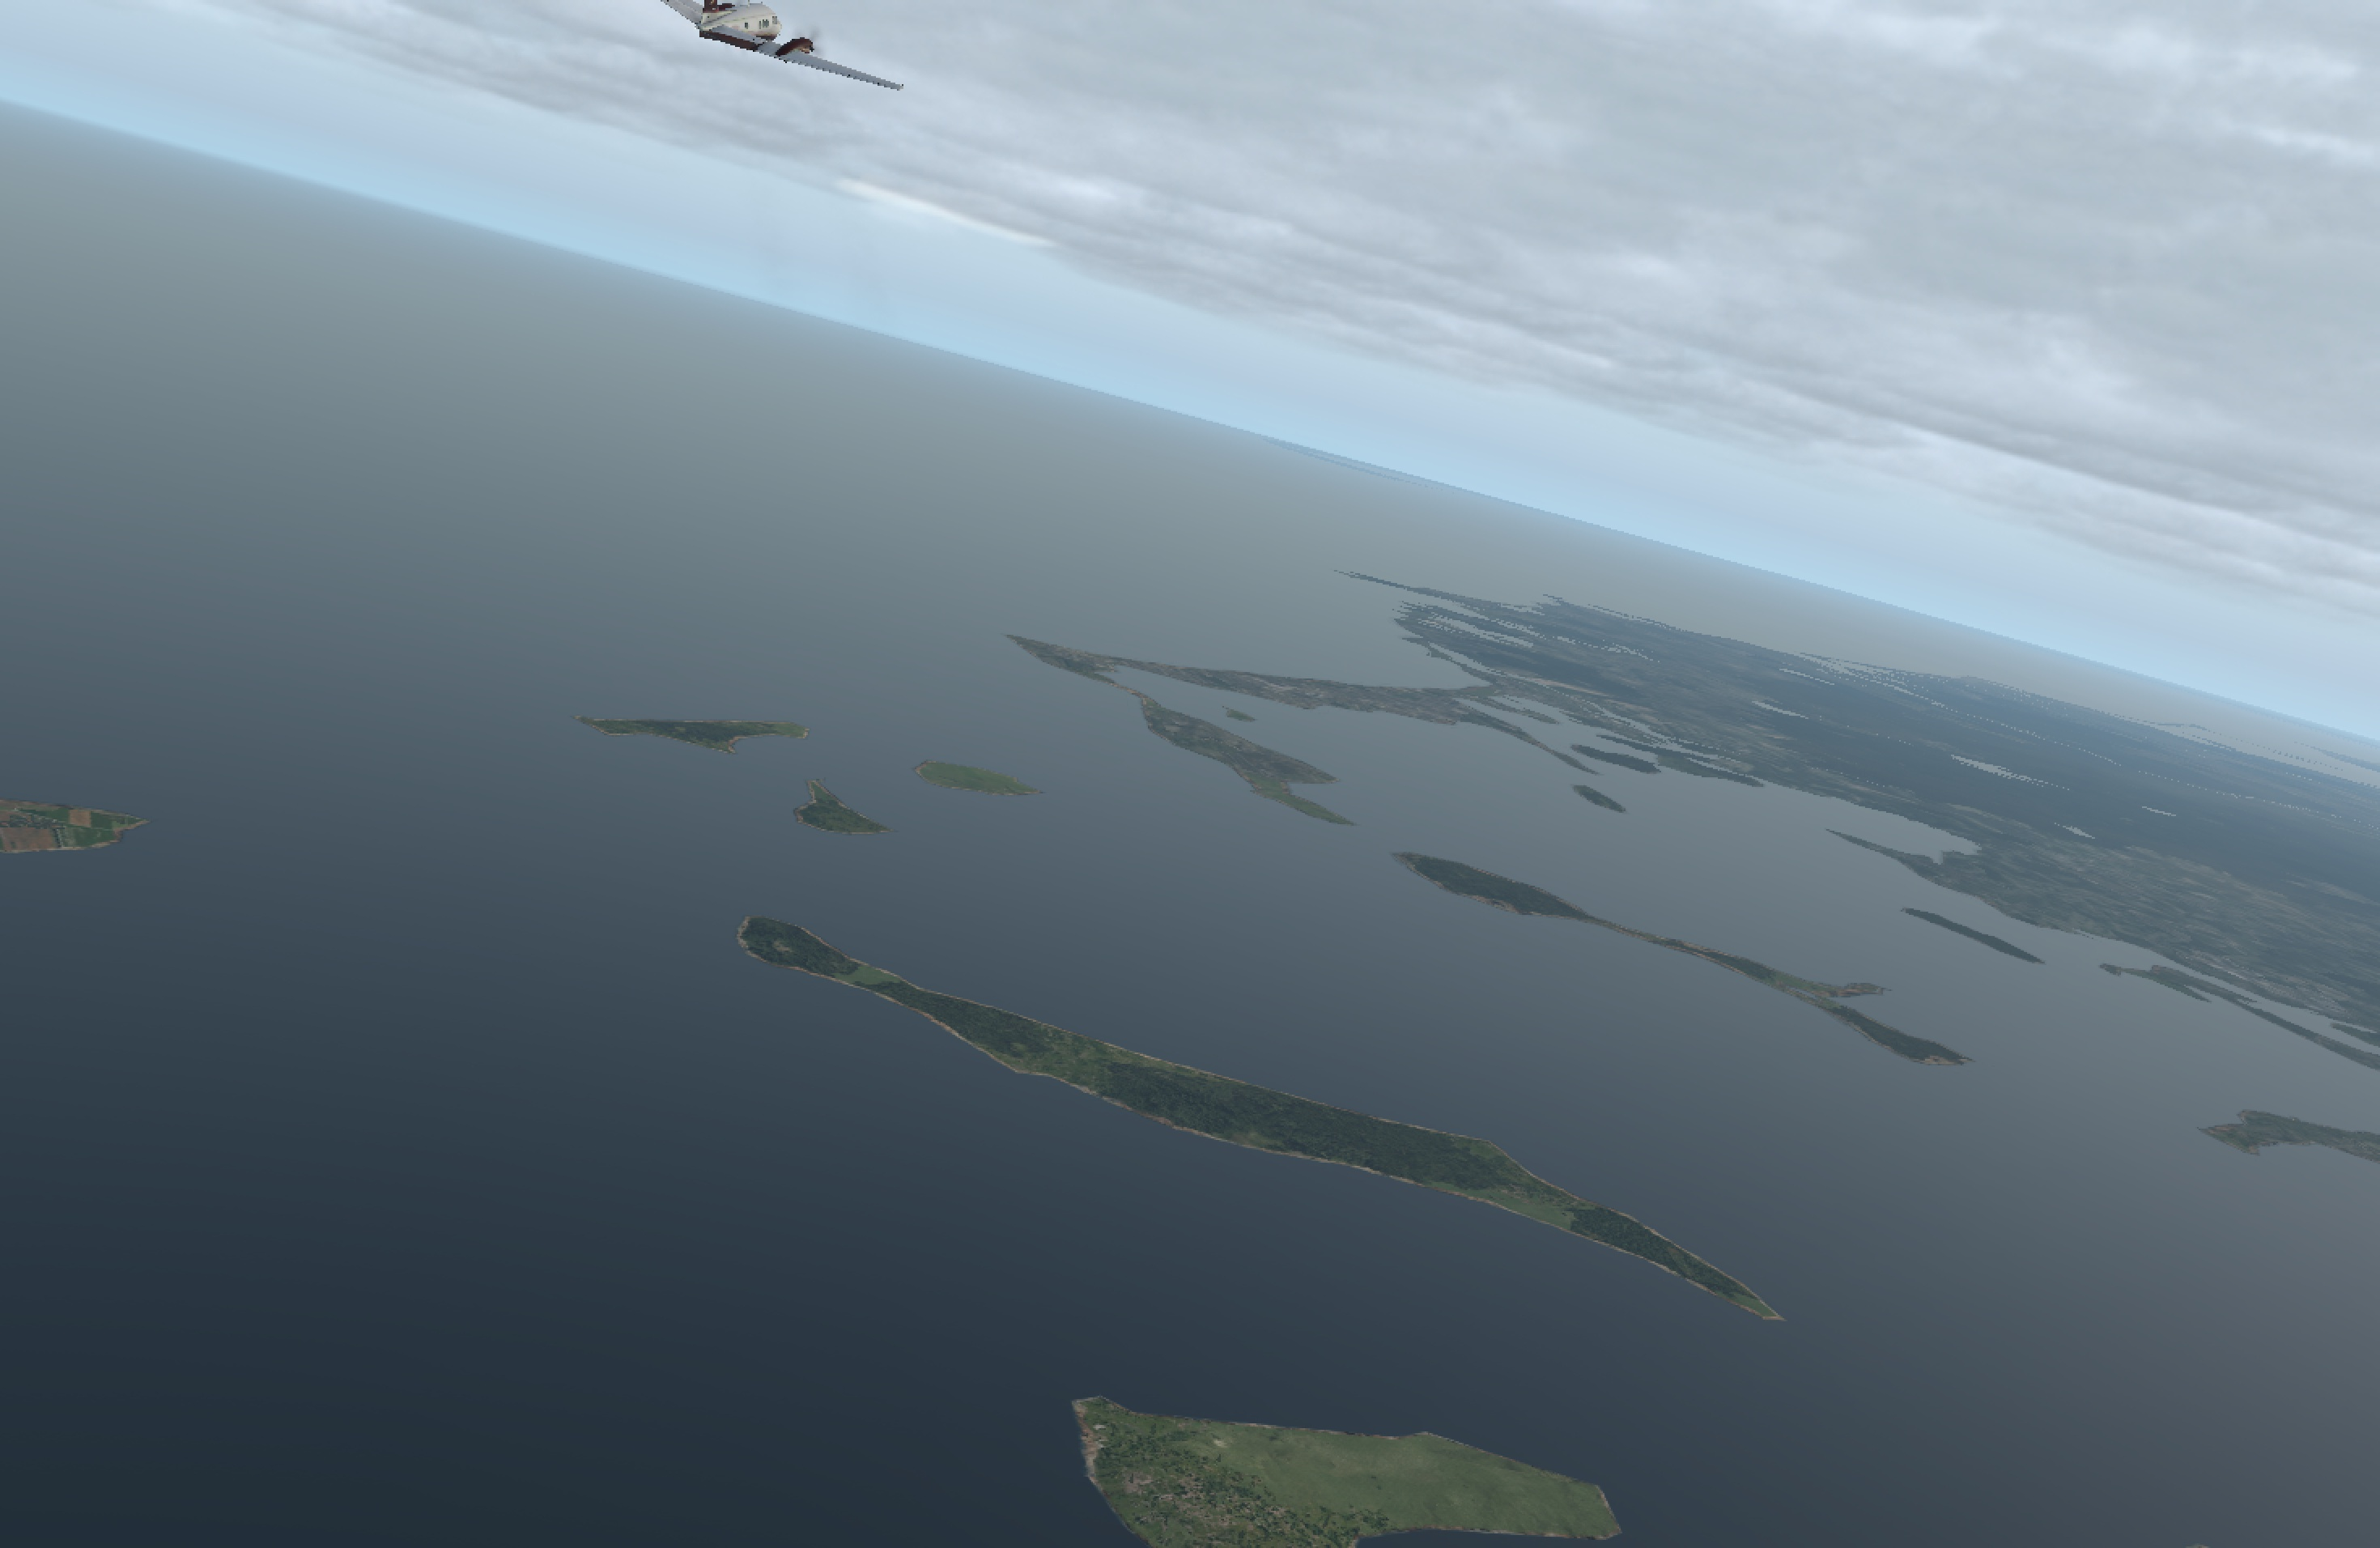aircraft: (597, 0, 902, 97)
